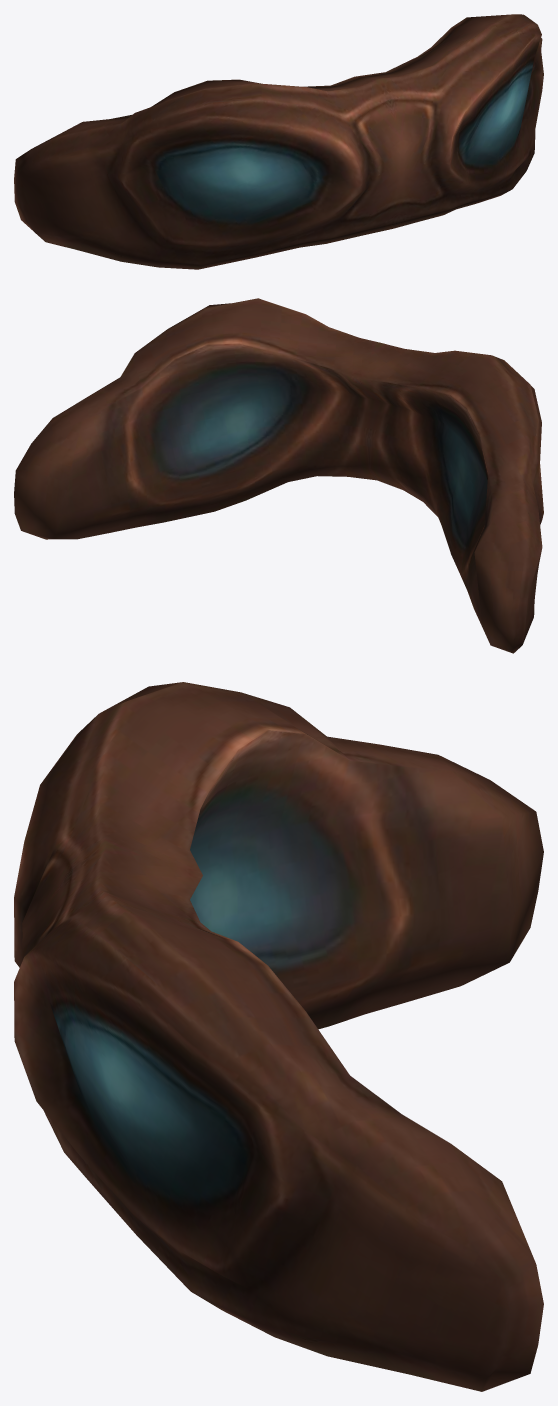
The model's file is outfit_goggles.glb.
3 renders of one model, top to bottom at view 1: azimuth 30°, elevation 25°; view 2: azimuth 150°, elevation 25°; view 3: azimuth 270°, elevation 25°, orthographic. The views are drawn at different scales.
Visible parts, largest first — view 1: outfit_goggles; view 2: outfit_goggles; view 3: outfit_goggles.
Boxes of the visible parts, <box> form: outfit_goggles: <box>14,14,543,269</box>; outfit_goggles: <box>14,298,543,653</box>; outfit_goggles: <box>14,682,543,1391</box>.
Bounding box in the file's own units: 0.7996 × 0.3 × 0.3872.
Materials: 1 (1 with a texture image).
